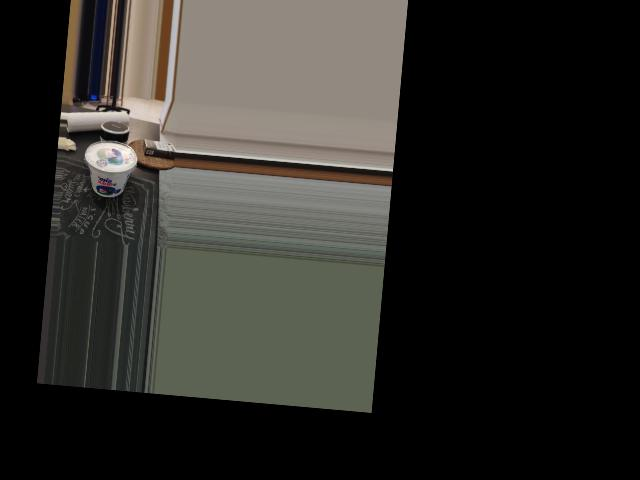cotage: (81, 137, 135, 202)
